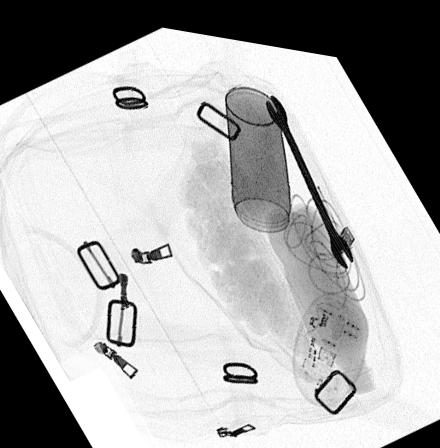Wrench: (263, 82, 355, 258)
